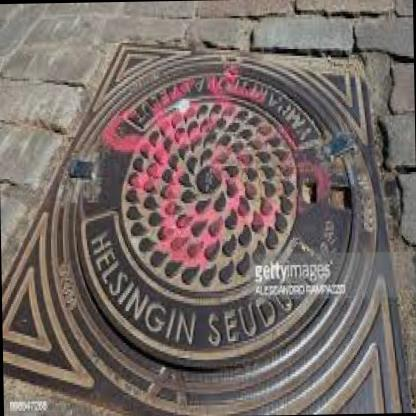manholes: (42, 17, 382, 416)
